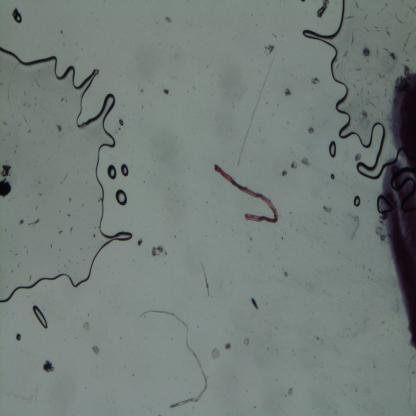Air bubble: (0, 48, 133, 304), (302, 0, 416, 181), (32, 306, 48, 330), (114, 188, 128, 206), (327, 139, 337, 160), (106, 163, 117, 180), (120, 163, 130, 178), (353, 194, 362, 209), (12, 9, 22, 22), (330, 172, 335, 180)
Background material: (0, 160, 16, 201), (347, 212, 363, 241), (385, 47, 402, 66), (150, 244, 167, 260), (374, 226, 387, 243), (41, 360, 54, 376), (262, 41, 275, 56), (250, 294, 260, 311), (282, 85, 293, 100), (210, 347, 221, 362), (24, 217, 42, 226), (309, 74, 322, 86), (362, 45, 372, 60), (240, 334, 250, 348), (322, 204, 333, 215), (302, 157, 311, 169), (223, 339, 232, 351), (92, 343, 100, 356), (161, 87, 171, 97), (164, 16, 174, 26), (290, 159, 298, 170), (118, 117, 125, 129), (364, 110, 370, 124), (15, 332, 23, 342), (354, 152, 362, 162), (307, 126, 314, 137), (136, 238, 144, 247), (282, 169, 289, 178), (20, 219, 22, 225)
Cellulose filter fibre: (139, 308, 206, 410), (200, 262, 211, 298), (315, 0, 331, 22)
Cotton: (214, 164, 280, 226)
Pen: (386, 67, 416, 352)
